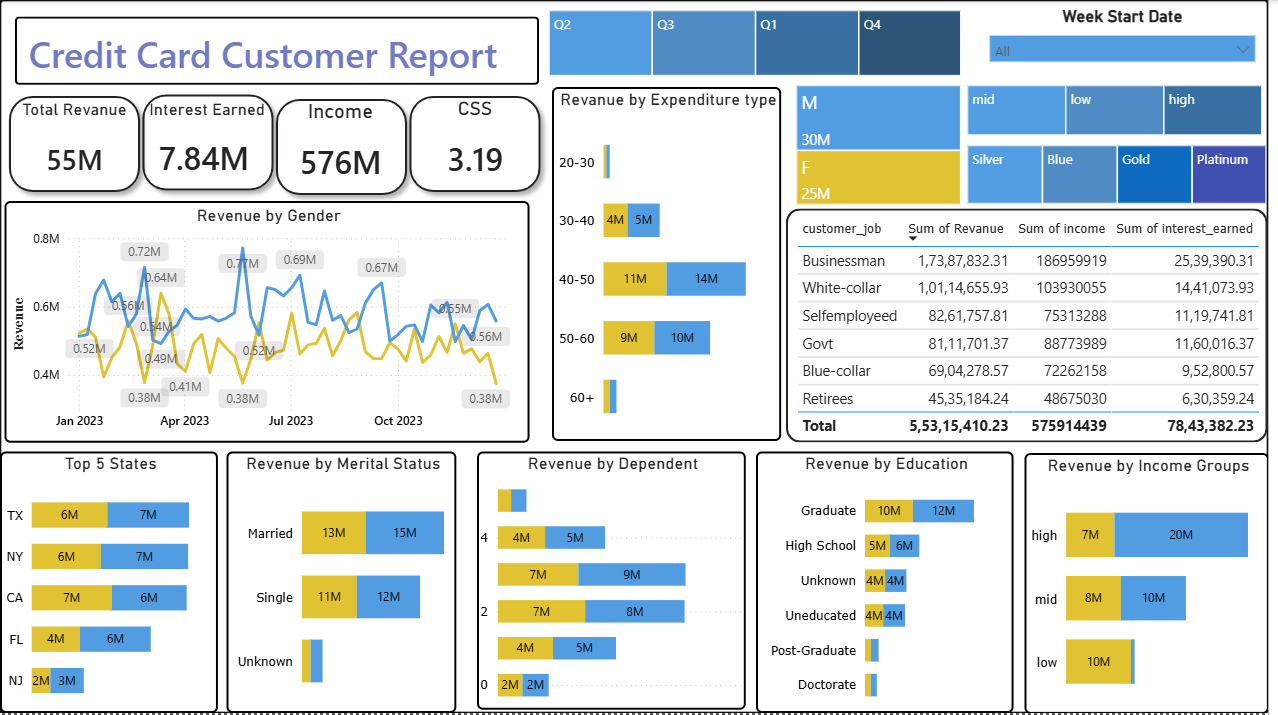

What the dashboard file says about the page in this screenshot:
{"tool":"powerbi","page":{"name":"CC Customer","canvas":[1280,720],"ordinal":1},"visuals":[{"type":"barChart","title":"Revanue by Expenditure type","fields":{"Y":["Sum(public cc_detail.Revanue)"],"Category":["public cust_detail.age bucket"],"Series":["public cust_detail.gender"]},"box":[557.1,87.1,231.4,357.1],"z":0,"group":"g2"},{"type":"barChart","title":"Revenue by Dependent","fields":{"Y":["Sum(public cc_detail.Revanue)"],"Category":["public cust_detail.dependent_count"],"Series":["public cust_detail.gender"]},"box":[481.5,455.8,271,260.4],"z":1000},{"type":"barChart","title":"Revenue by Income Groups","fields":{"Y":["Sum(public cc_detail.Revanue)"],"Category":["public cust_detail.income group"],"Series":["public cust_detail.gender"]},"box":[1034,458,246.7,263.3],"z":1000,"group":"g1"},{"type":"shape","box":[793.4,210.5,486.1,236.2],"z":2000},{"type":"shape","box":[134.7,86.3,150.4,115.1],"z":4000},{"type":"shape","box":[269.4,90.2,150.4,115.1],"z":5000},{"type":"shape","box":[404,87.6,150.4,115.1],"z":6000},{"type":"shape","box":[0,87.6,150.4,115.1],"z":7000},{"type":"cardVisual","fields":{"Data":["public cc_detail.Measure"]},"box":[4.3,10,530,70],"z":8000},{"type":"tableEx","fields":{"Values":["public cust_detail.customer_job","Sum(public cc_detail.Revanue)","Sum(public cust_detail.income)","Sum(public cc_detail.interest_earned)"]},"box":[804,218,469.4,228.6],"z":9000},{"type":"cardVisual","title":"Total Revanue","fields":{"Data":["Sum(public cc_detail.Revanue)"]},"box":[15.7,99.4,120.3,96.8],"z":10000},{"type":"cardVisual","title":"Income","fields":{"Data":["Sum(public cust_detail.income)"]},"box":[285,100,118.3,96.7],"z":11000},{"type":"cardVisual","title":"Interest Earned","fields":{"Data":["Sum(public cc_detail.interest_earned)"]},"box":[149.1,100.7,121.6,92.8],"z":12000},{"type":"cardVisual","title":"CSS","fields":{"Data":["Avg(public cust_detail.cust_satisfaction_score)"]},"box":[423.6,98.1,111.1,95.4],"z":13000},{"type":"slicer","title":"Week Start Date","fields":{"Values":["public cc_detail.week_start_date"]},"box":[989.4,5.6,288.8,70],"z":14000},{"type":"treemap","fields":{"Group":["public cc_detail.qtr"],"Values":["CountNonNull(public cc_detail.client_num)"]},"box":[554.3,10,415.7,65.7],"z":15000},{"type":"treemap","fields":{"Values":["Avg(public cc_detail.client_num)"],"Group":["public cust_detail.income group"]},"box":[977.1,85.7,297.1,50],"z":16000},{"type":"treemap","fields":{"Group":["public cc_detail.card_category"],"Values":["Avg(public cc_detail.client_num)"]},"box":[977.1,147.1,301.4,58.6],"z":17000},{"type":"group","id":"g1","title":"Group 1","box":[1034,458,246.7,263.3],"z":18000},{"type":"group","id":"g2","title":"Group 1","box":[557.1,87.1,231.4,357.1],"z":19000},{"type":"lineChart","title":"Revenue by Gender","fields":{"Y":["Sum(public cc_detail.Revanue)"],"Series":["public cust_detail.gender"],"Category":["public cc_detail.week_start_date.Variation.Date Hierarchy.Year","public cc_detail.week_start_date.Variation.Date Hierarchy.Quarter","public cc_detail.week_start_date.Variation.Date Hierarchy.Month","public cc_detail.week_start_date.Variation.Date Hierarchy.Day"]},"box":[4.5,202.9,530,243.8],"z":20000},{"type":"barChart","title":"Revenue by Education","fields":{"Y":["Sum(public cc_detail.Revanue)"],"Category":["public cust_detail.education_level"],"Series":["public cust_detail.gender"]},"box":[763,456,260,264],"z":21000},{"type":"barChart","title":"Top 5 States","fields":{"Y":["Sum(public cc_detail.Revanue)"],"Category":["public cust_detail.state_cd"],"Series":["public cust_detail.gender"]},"box":[0,456,220,264],"z":22000},{"type":"barChart","title":"Revenue by Merital Status","fields":{"Y":["Sum(public cc_detail.Revanue)"],"Category":["public cust_detail.marital_status"],"Series":["public cust_detail.gender"]},"box":[228,456,232,264],"z":23000},{"type":"treemap","fields":{"Group":["public cust_detail.gender"],"Values":["Sum(public cc_detail.Revanue)"]},"box":[804.3,85.7,165.7,120],"z":24000}]}

Visuals, with their boxes in screenshot pixels (x1, y1, x2, y2), scaled from the page's 1280x720 canvas onto the 1278x715 screenshot:
"Revanue by Expenditure type" barChart: box(556, 86, 787, 441)
"Revenue by Dependent" barChart: box(481, 453, 751, 711)
"Revenue by Income Groups" barChart: box(1032, 455, 1277, 714)
shape: box(792, 209, 1277, 444)
shape: box(134, 86, 285, 200)
shape: box(269, 90, 419, 204)
shape: box(403, 87, 554, 201)
shape: box(0, 87, 150, 201)
cardVisual - public cc_detail.Measure: box(4, 10, 533, 79)
tableEx - public cust_detail.customer_job x Sum(public cc_detail.Revanue): box(803, 216, 1271, 443)
"Total Revanue" cardVisual: box(16, 99, 136, 195)
"Income" cardVisual: box(285, 99, 403, 195)
"Interest Earned" cardVisual: box(149, 100, 270, 192)
"CSS" cardVisual: box(423, 97, 534, 192)
"Week Start Date" slicer: box(988, 6, 1276, 75)
treemap - public cc_detail.qtr x CountNonNull(public cc_detail.client_num): box(553, 10, 968, 75)
treemap - Avg(public cc_detail.client_num) x public cust_detail.income group: box(976, 85, 1272, 135)
treemap - public cc_detail.card_category x Avg(public cc_detail.client_num): box(976, 146, 1277, 204)
"Group 1" group: box(1032, 455, 1277, 714)
"Group 1" group: box(556, 86, 787, 441)
"Revenue by Gender" lineChart: box(4, 201, 534, 444)
"Revenue by Education" barChart: box(762, 453, 1021, 714)
"Top 5 States" barChart: box(0, 453, 220, 714)
"Revenue by Merital Status" barChart: box(228, 453, 459, 714)
treemap - public cust_detail.gender x Sum(public cc_detail.Revanue): box(803, 85, 968, 204)
